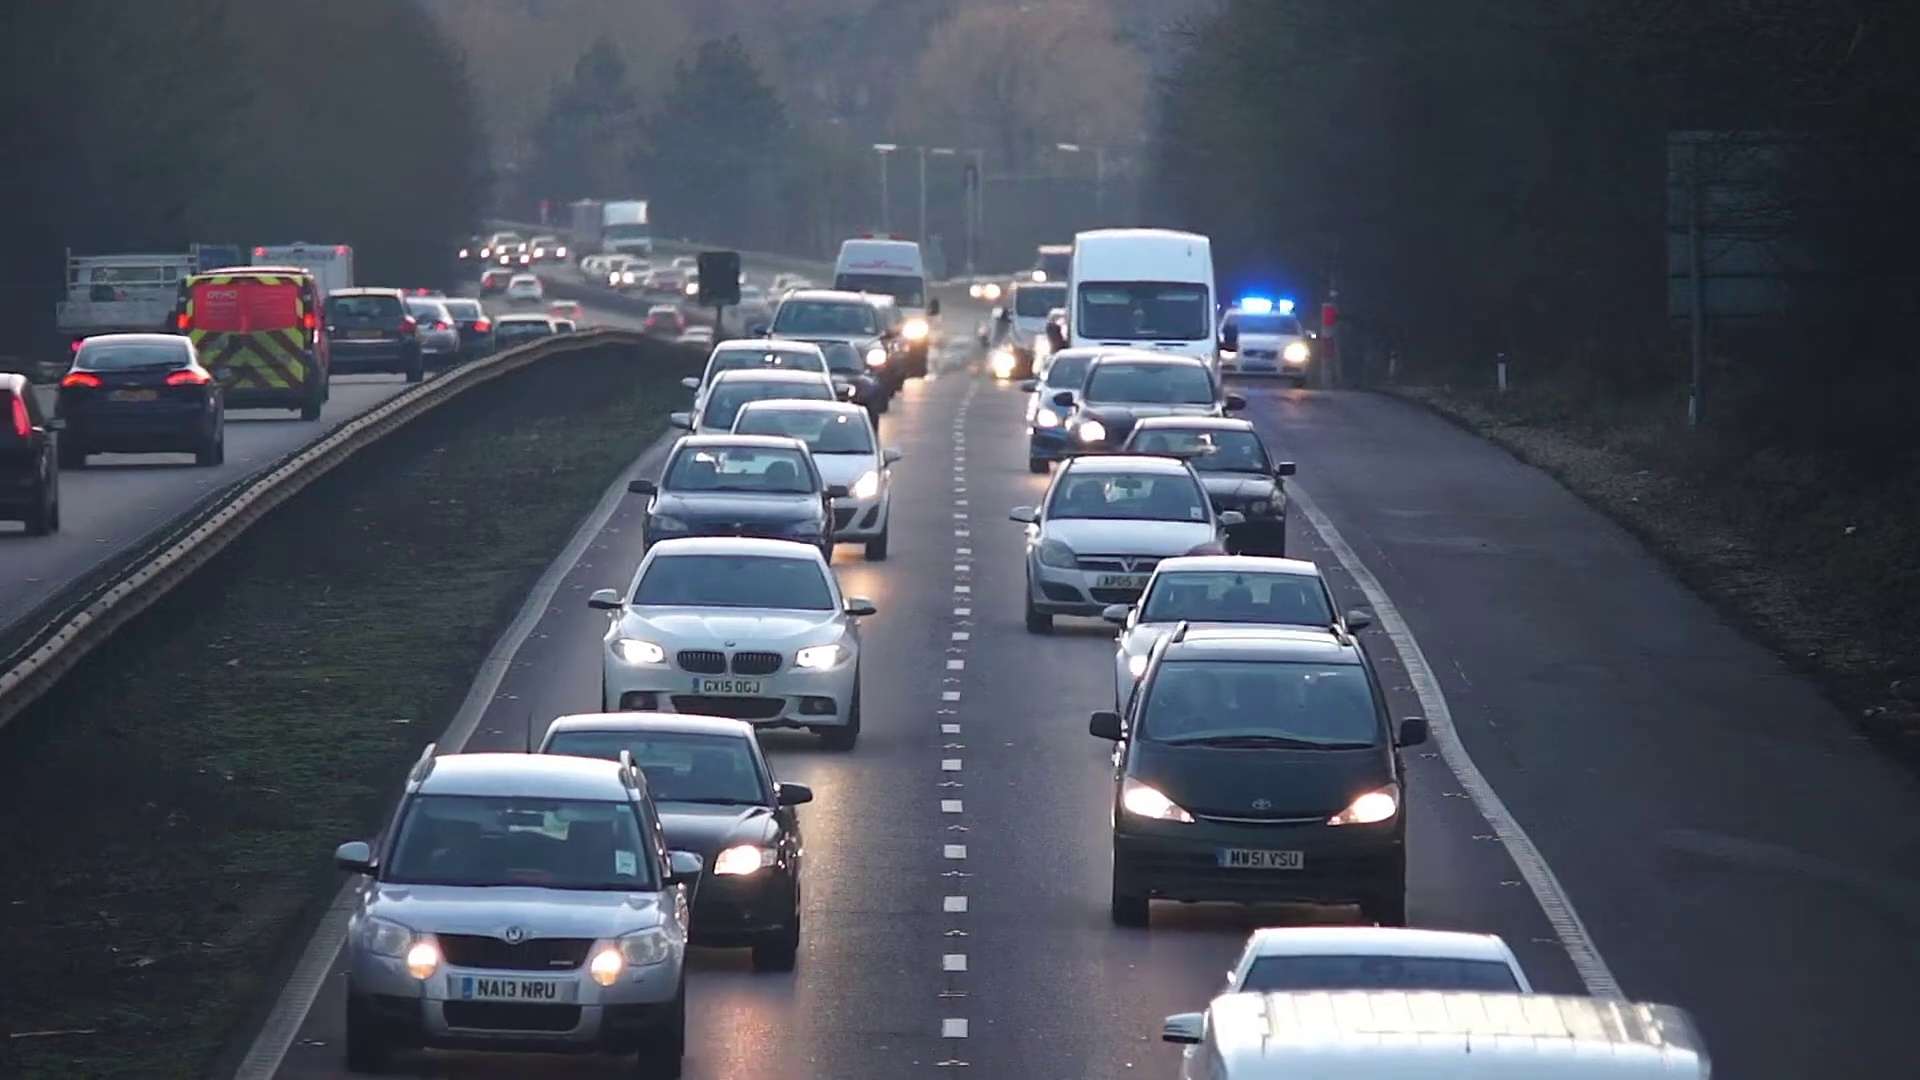license_plate: (459, 977, 568, 1003), (1218, 848, 1304, 874), (689, 677, 765, 697), (1096, 572, 1152, 591)
